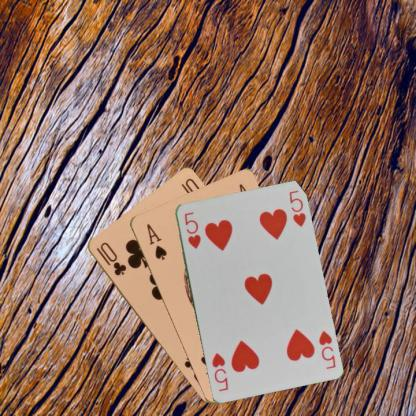10c: (93, 240, 128, 277)
5h: (181, 209, 202, 250), (316, 328, 336, 370)
As: (143, 221, 168, 261)
